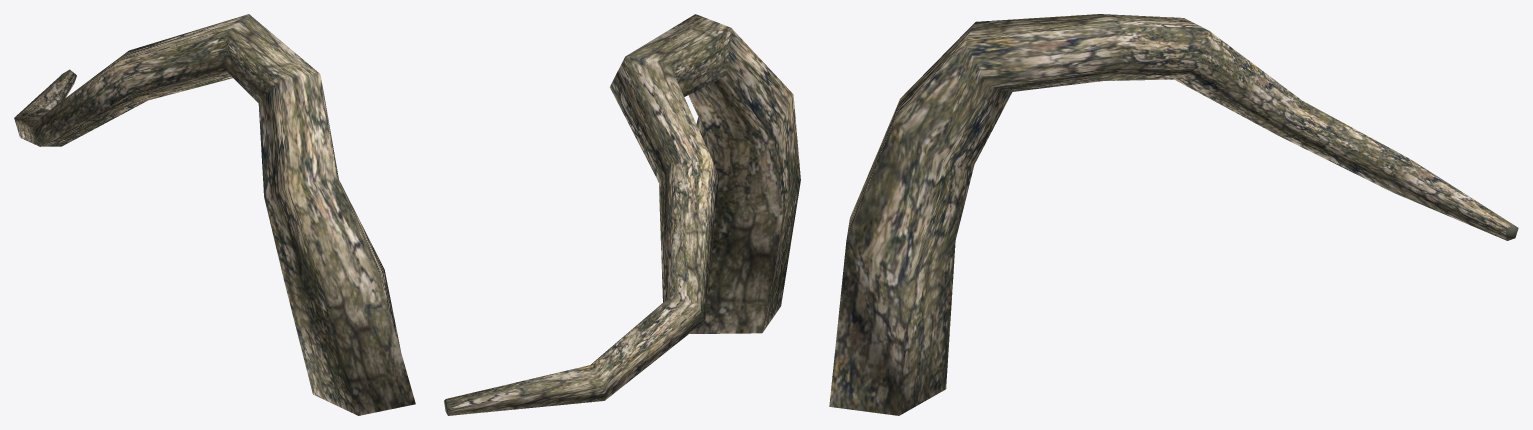
The model's file is OVERHILL_A_01_LINE332.fbx.
The picture shows the model from 3 angles, left to right: view 1: azimuth 30°, elevation 25°; view 2: azimuth 150°, elevation 25°; view 3: azimuth 270°, elevation 25°; orthographic projection. The views are drawn at different scales.
Parts seen in each view (by area): view 1: OVERHILL_A_01_LINE332; view 2: OVERHILL_A_01_LINE332; view 3: OVERHILL_A_01_LINE332.
Part boxes in pixels (<box>): OVERHILL_A_01_LINE332: <box>14,14,415,415</box>; OVERHILL_A_01_LINE332: <box>444,14,800,415</box>; OVERHILL_A_01_LINE332: <box>829,14,1518,415</box>.
Bounding box in the file's own units: 41451 × 60369 × 105328.
1 material, 1 textured.
